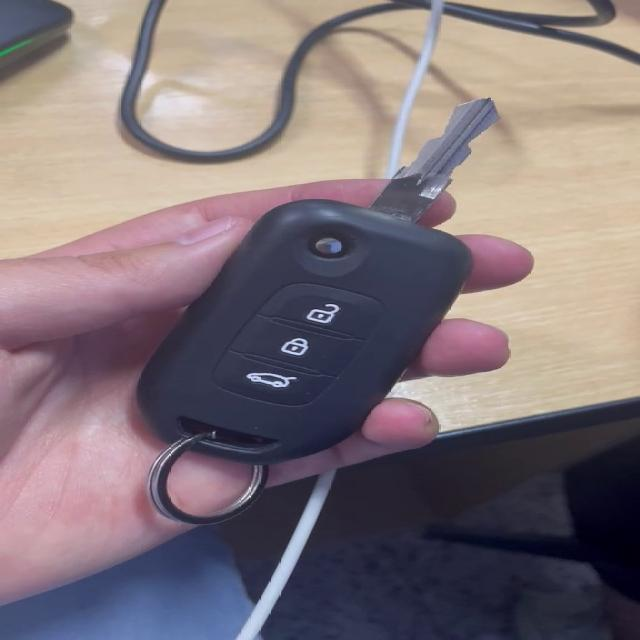llave-auto: (146, 93, 507, 520)
